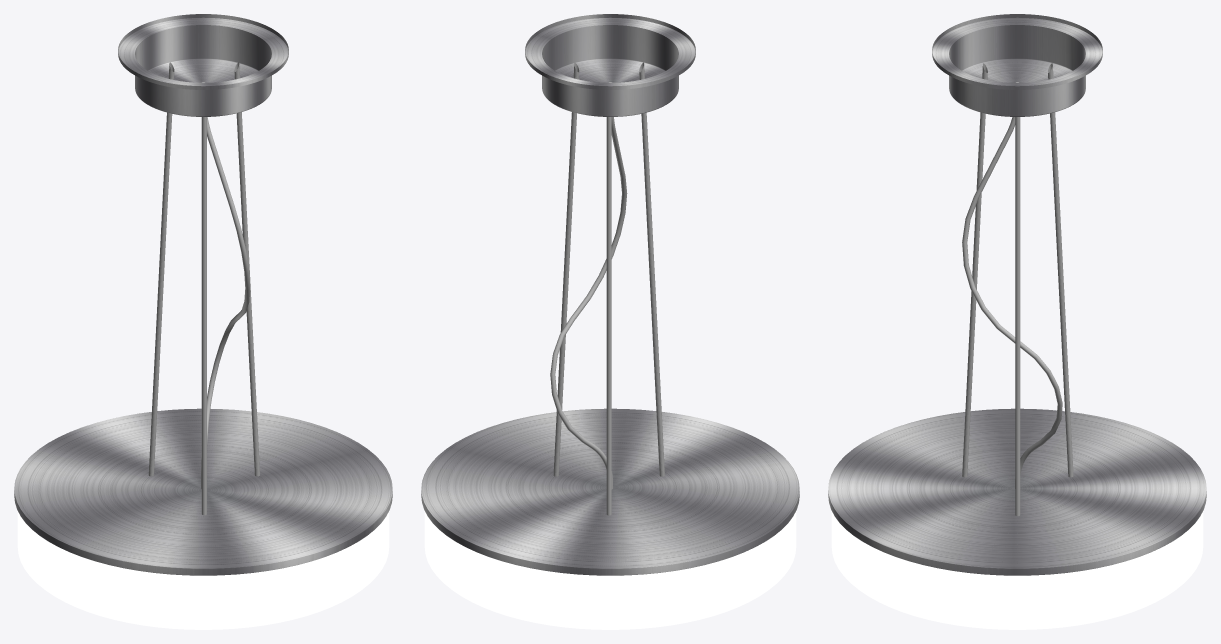
Rendered from light-v2.glb.
3 views of the same model, side by side, from view 1: azimuth 30°, elevation 25°; view 2: azimuth 150°, elevation 25°; view 3: azimuth 270°, elevation 25° (orthographic).
Parts seen in each view (by area): view 1: Metal, Metal_Material #2_0.003, Metal_Material #2_0.002, Metal_Material #2_0.005, Metal_Material #2_0.107, Metal_Material #2_0.004, Metal_Material #2_0.092, Metal_Material #2_0.094; view 2: Metal, Metal_Material #2_0.003, Metal_Material #2_0.002, Metal_Material #2_0.005, Metal_Material #2_0.107, Metal_Material #2_0.004; view 3: Metal, Metal_Material #2_0.003, Metal_Material #2_0.002, Metal_Material #2_0.005, Metal_Material #2_0.107, Metal_Material #2_0.004, Metal_Material #2_0.046.
Part boxes in pixels (x1,y1,x2,y2): Metal: [14, 408, 392, 575]; Metal_Material #2_0.003: [17, 511, 389, 629]; Metal_Material #2_0.002: [135, 25, 271, 116]; Metal_Material #2_0.005: [118, 17, 288, 86]; Metal_Material #2_0.107: [201, 117, 250, 488]; Metal_Material #2_0.004: [118, 14, 288, 89]; Metal_Material #2_0.092: [204, 117, 205, 492]; Metal_Material #2_0.094: [203, 117, 204, 466]; Metal: [421, 408, 799, 575]; Metal_Material #2_0.003: [424, 511, 796, 629]; Metal_Material #2_0.002: [542, 25, 678, 116]; Metal_Material #2_0.005: [525, 17, 695, 86]; Metal_Material #2_0.107: [550, 117, 627, 489]; Metal_Material #2_0.004: [525, 14, 695, 89]; Metal: [828, 408, 1206, 575]; Metal_Material #2_0.003: [831, 511, 1203, 629]; Metal_Material #2_0.002: [949, 25, 1085, 116]; Metal_Material #2_0.005: [932, 17, 1102, 86]; Metal_Material #2_0.107: [962, 117, 1062, 488]; Metal_Material #2_0.004: [932, 14, 1102, 89]; Metal_Material #2_0.046: [1016, 157, 1017, 516].
Bounding box in the file's own units: 73.03 × 108 × 73.03.
1 material, 1 textured.
